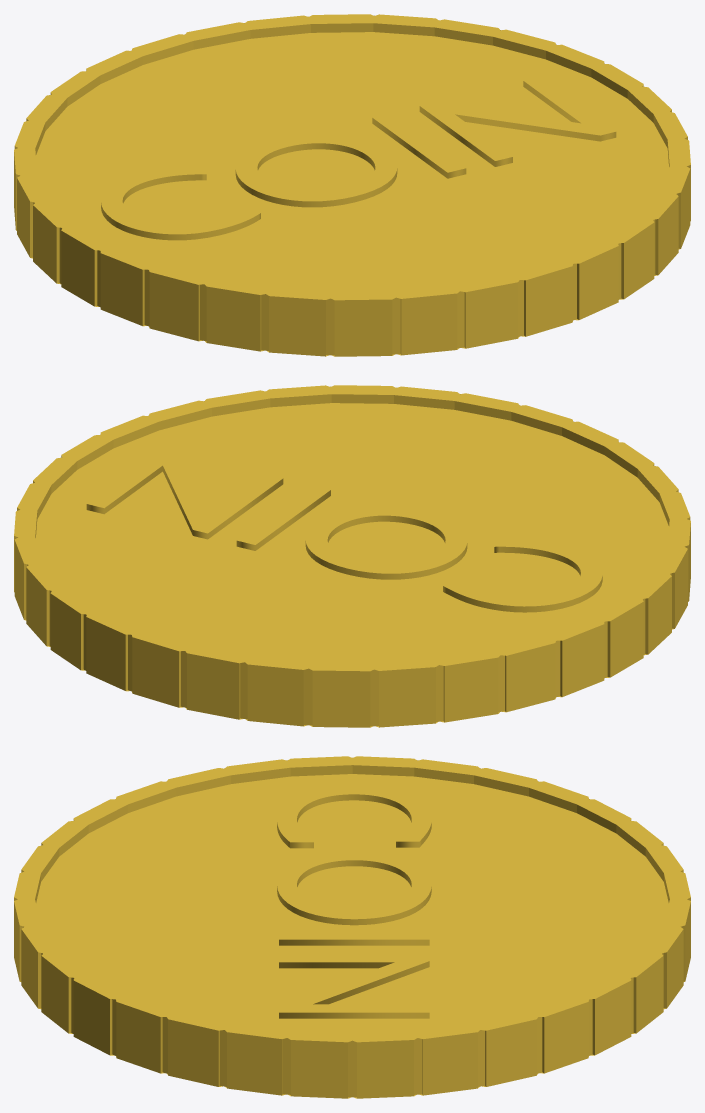
The model's file is coin.fbx.
3 views of the same model, one above another, from view 1: azimuth 30°, elevation 25°; view 2: azimuth 150°, elevation 25°; view 3: azimuth 270°, elevation 25° (orthographic).
Visible parts, largest first — view 1: coin; view 2: coin; view 3: coin.
Part boxes in pixels (bbox=[...]): coin: bbox=[14, 14, 690, 356]; coin: bbox=[14, 385, 690, 727]; coin: bbox=[14, 756, 690, 1098].
Size of the model in its own units: 200 by 18.37 by 200.
